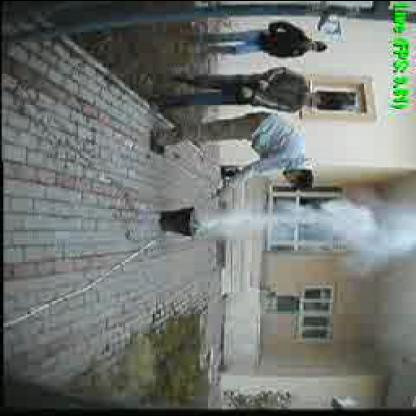Smoke: (198, 197, 412, 248)
